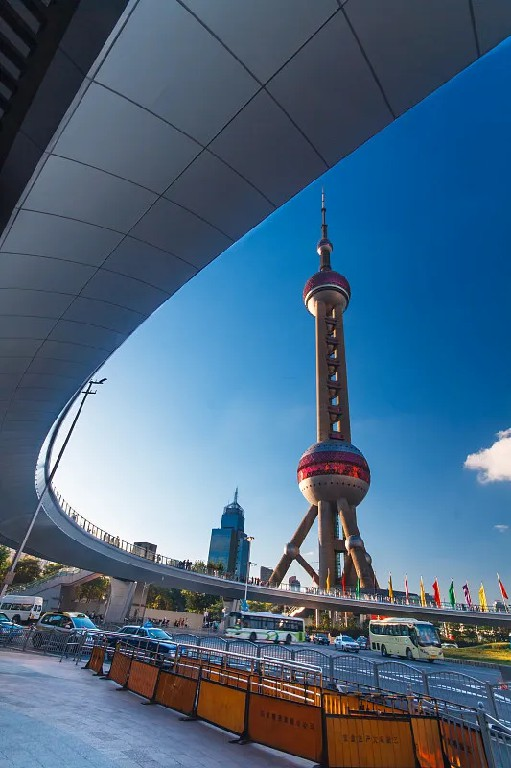Oriental: (263, 186, 382, 593)
